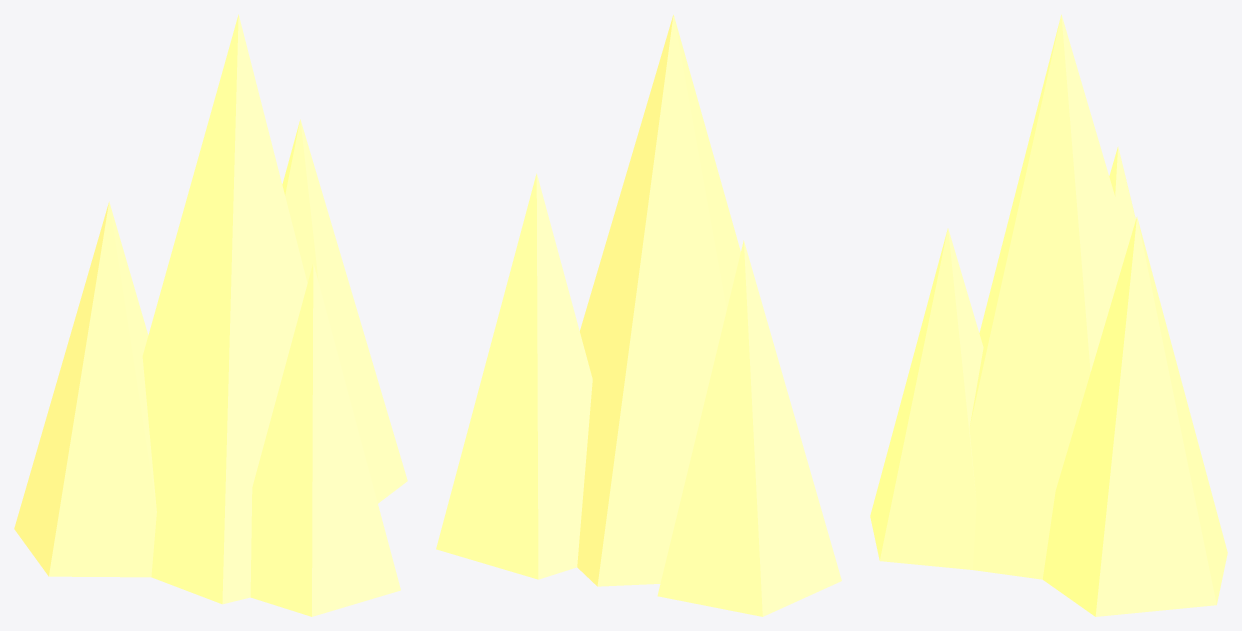
File: fire_flames.glb
3 views of the same model, side by side, from view 1: azimuth 30°, elevation 25°; view 2: azimuth 150°, elevation 25°; view 3: azimuth 270°, elevation 25° (orthographic). The views are drawn at different scales.
Parts seen in each view (by area): view 1: flame tongue, flame tongue.002, flame tongue.003, flame tongue.001; view 2: flame tongue, flame tongue.001, flame tongue.002; view 3: flame tongue, flame tongue.001, flame tongue.003, flame tongue.002.
Part boxes in pixels (x1,y1,x2,y2): flame tongue: (142,14,307,604); flame tongue.002: (14,201,156,577); flame tongue.003: (250,263,400,616); flame tongue.001: (282,119,407,503); flame tongue: (577,14,740,586); flame tongue.001: (436,173,592,579); flame tongue.002: (657,240,841,616); flame tongue: (969,14,1128,579); flame tongue.001: (1042,216,1227,616); flame tongue.003: (870,228,983,569); flame tongue.002: (1109,146,1135,242).
Size of the model in its own units: 0.2194 by 0.3 by 0.1892.
